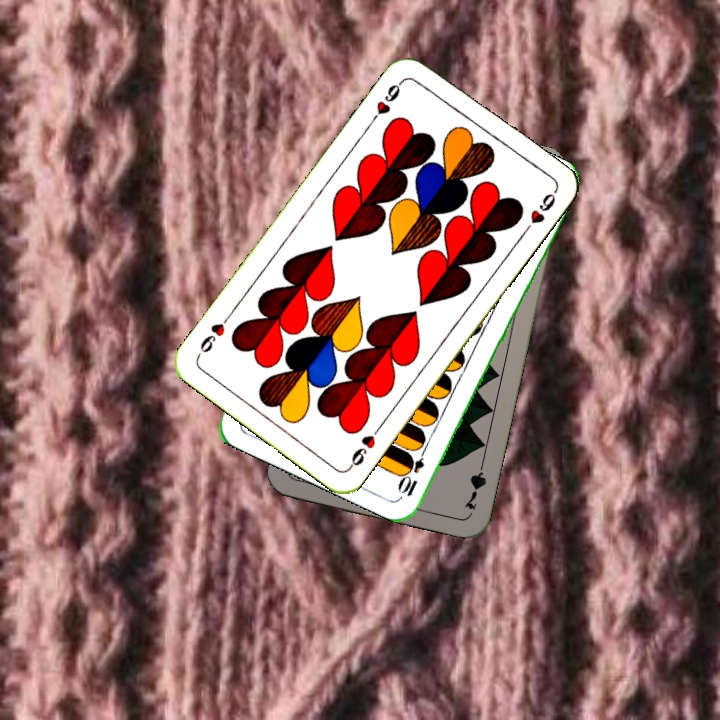E10: (397, 441, 430, 500)
G7: (460, 455, 489, 513)
H9: (366, 76, 407, 127), (345, 421, 385, 472)
